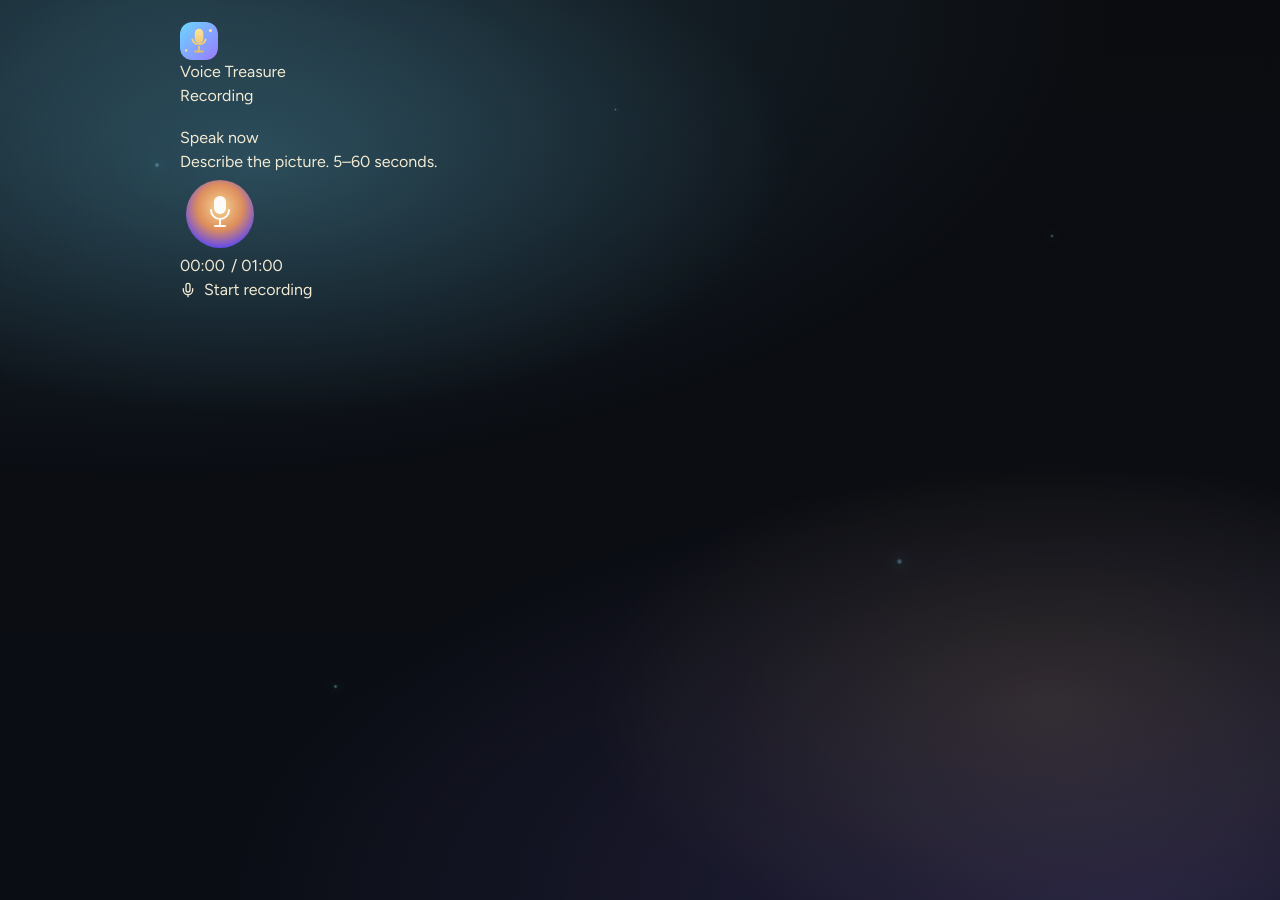
Test: VT Pass B.2.1 · Recorder previewing phase is real, no interrupted overstatement › transitions to previewing on <audio> onPlay and back on pause/end
The image size is (1280, 900).
Later steps or results of the test are not shown.
Step 1. Click the button with test id "vt-rec-start" → (246, 290), box [180,278,312,302]
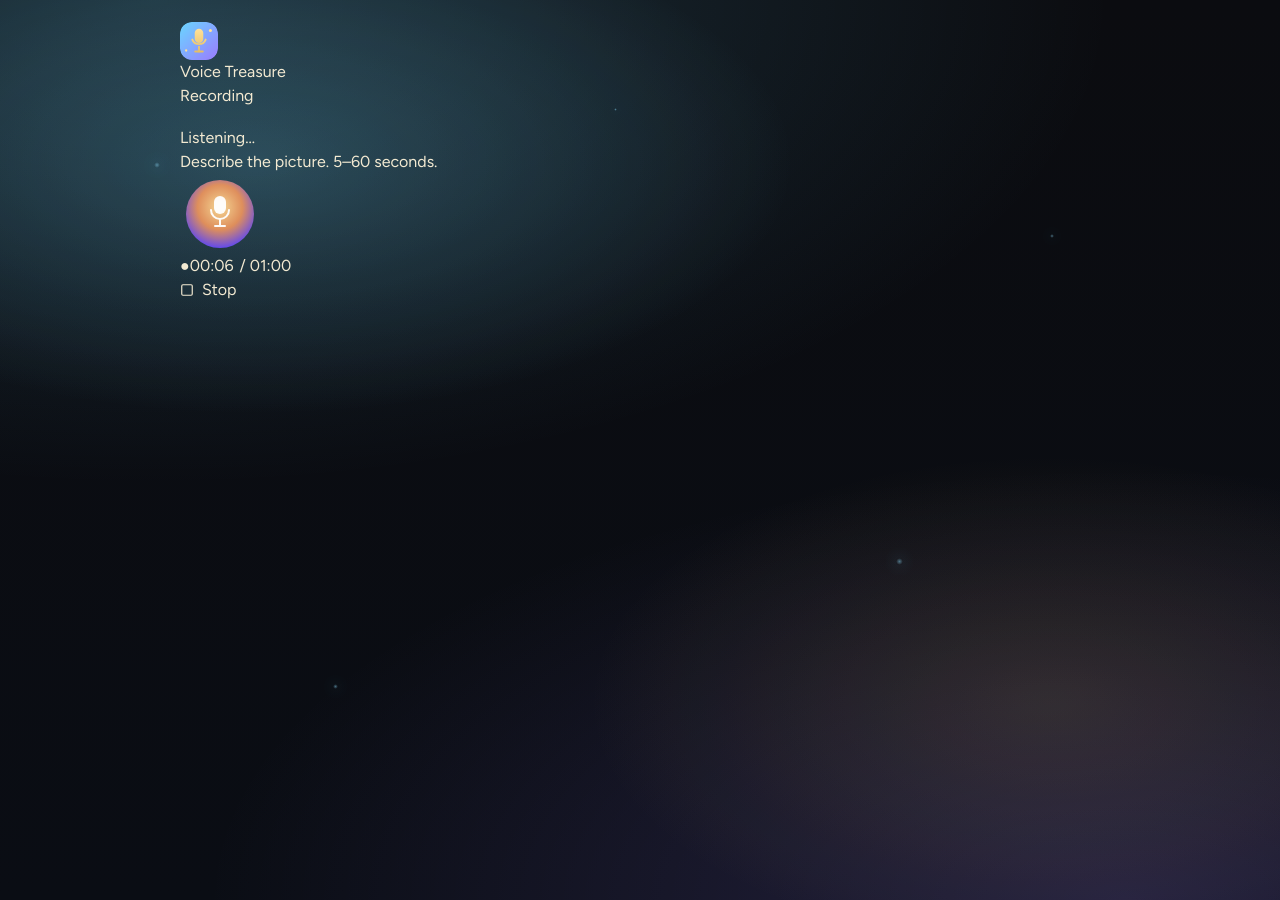
Step 2. Click the button with test id "vt-rec-stop" → (208, 290), box [180,278,237,302]
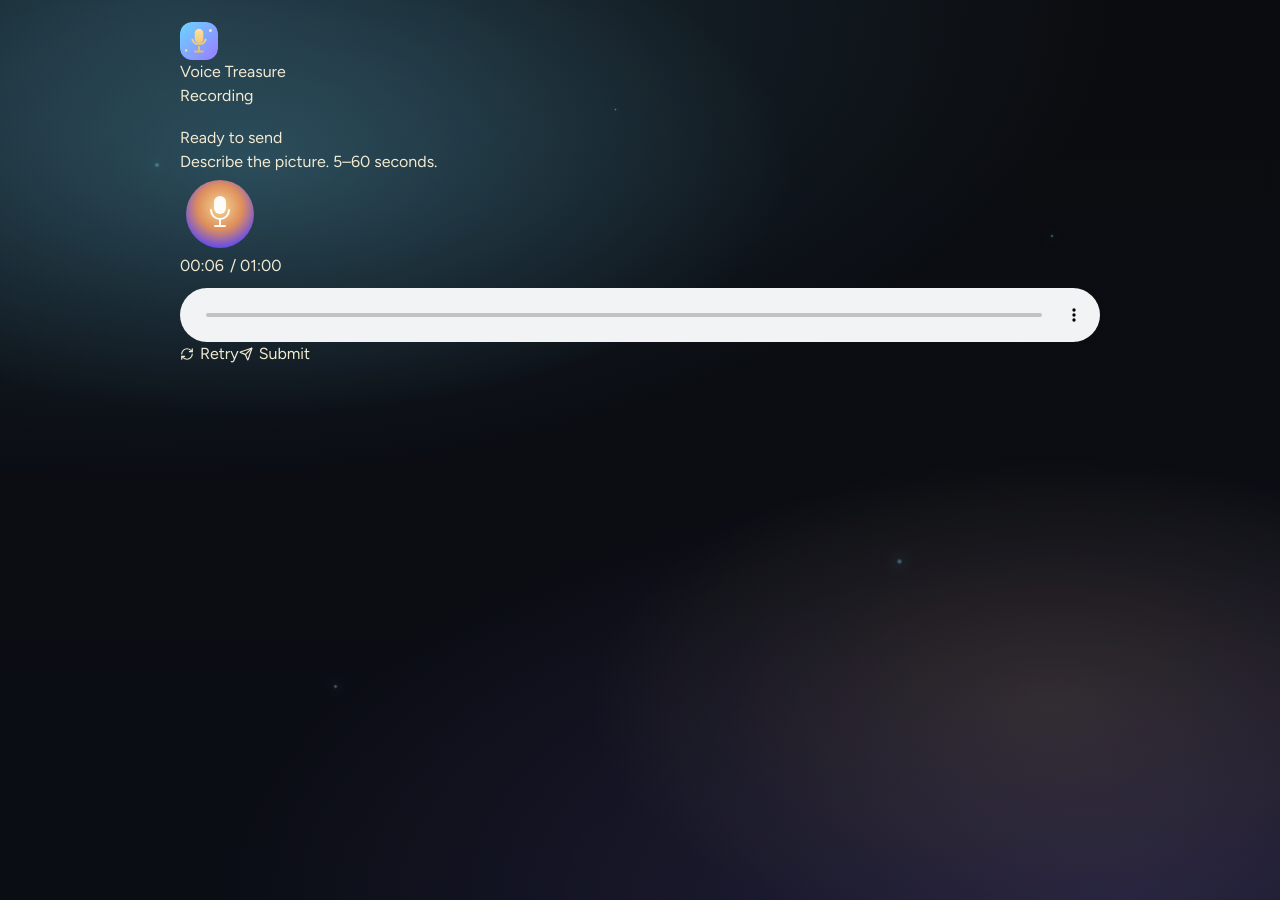
Expected: the element with test id "vt-preview" is shown, [180,288,1100,342]
